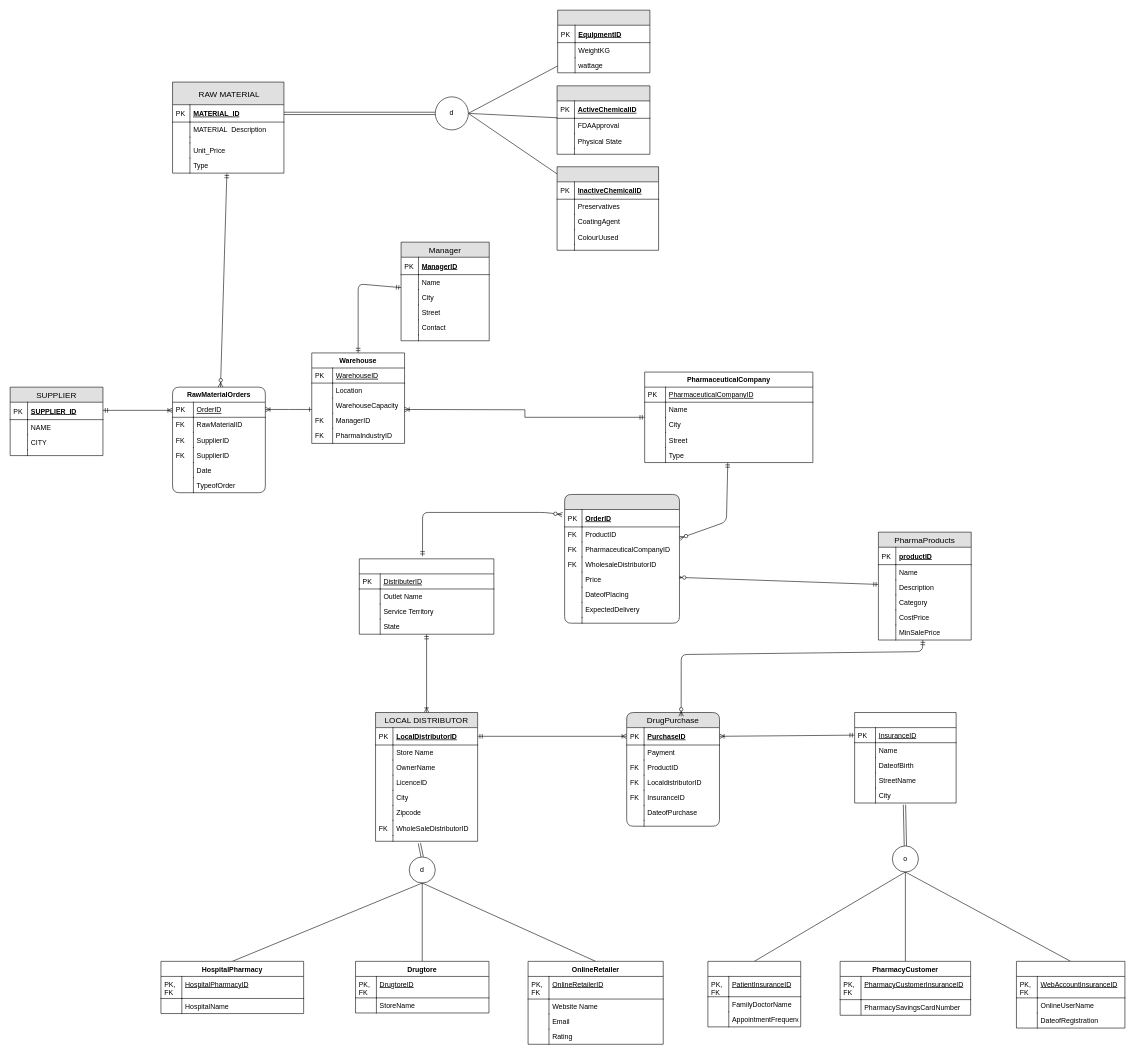
Some shapes in this 1135 by 1056 pixel diagram are drawn without their labels. The box of each missing label's shape, as (x1, y1, x2, y2) in pixels:
API: (557, 85, 650, 154)
Apparatus/Equipments: (557, 10, 650, 73)
Customer: (854, 712, 956, 803)
Excipient: (557, 166, 659, 250)
OnlineCustomer: (1016, 961, 1125, 1028)
PatientCustomer: (707, 961, 801, 1027)
Wholesale Distributer: (359, 558, 494, 634)
WholesaleOrders: (564, 494, 679, 623)
